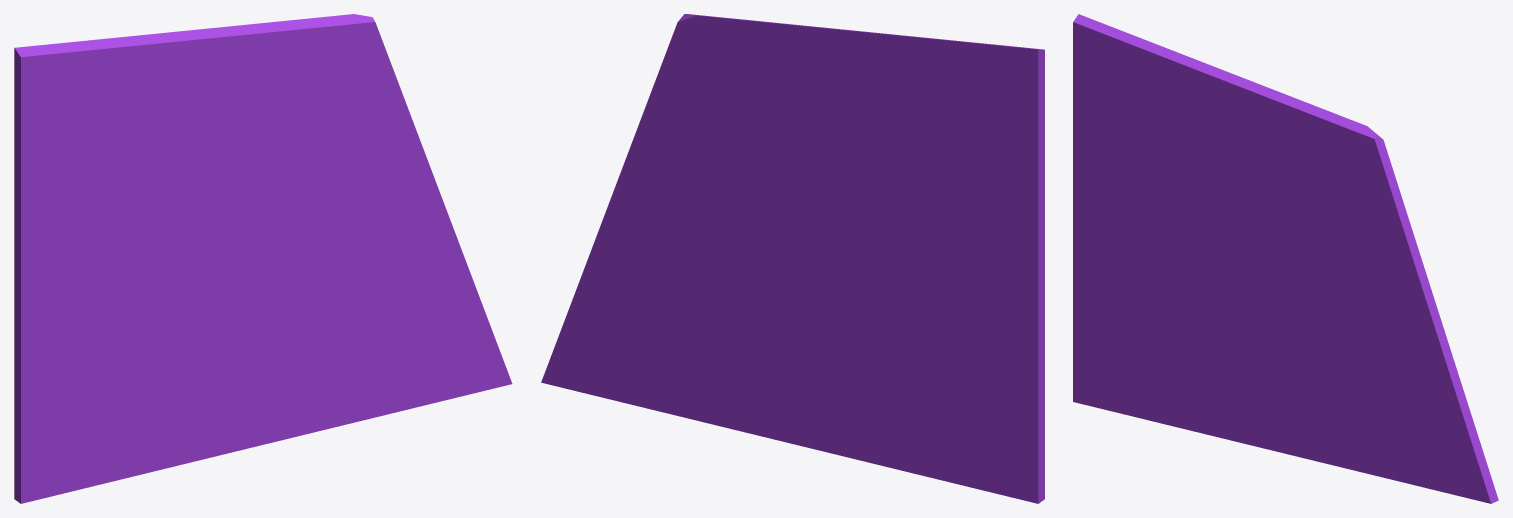
Rendered from Window_5_1_chunks.fbx.
3 views of the same model, side by side, from view 1: azimuth 30°, elevation 25°; view 2: azimuth 150°, elevation 25°; view 3: azimuth 330°, elevation 25° (orthographic). The views are drawn at different scales.
Parts seen in each view (by area): view 1: Window_5_1_0, Window_5_1_19, Window_5_1_5, Window_5_1_6, Window_5_1_10, Window_5_1_23, Window_5_1_15, Window_5_1_21, Window_5_1_22, Window_5_1_9, Window_5_1_16, Window_5_1_24 (+17 smaller); view 2: Window_5_1_0, Window_5_1_10, Window_5_1_15, Window_5_1_5, Window_5_1_19, Window_5_1_21, Window_5_1_6, Window_5_1_8, Window_5_1_22, Window_5_1_23, Window_5_1_16, Window_5_1_2 (+14 smaller); view 3: Window_5_1_0, Window_5_1_5, Window_5_1_10, Window_5_1_19, Window_5_1_6, Window_5_1_23, Window_5_1_21, Window_5_1_15, Window_5_1_22, Window_5_1_9, Window_5_1_24, Window_5_1_8 (+16 smaller).
Part boxes in pixels (bbox=[...]): Window_5_1_0: bbox=[14, 48, 223, 231]; Window_5_1_19: bbox=[93, 315, 237, 486]; Window_5_1_5: bbox=[268, 89, 437, 243]; Window_5_1_6: bbox=[259, 264, 351, 437]; Window_5_1_10: bbox=[251, 14, 400, 139]; Window_5_1_23: bbox=[404, 238, 512, 403]; Window_5_1_15: bbox=[14, 165, 87, 351]; Window_5_1_21: bbox=[122, 172, 259, 299]; Window_5_1_22: bbox=[350, 290, 429, 423]; Window_5_1_9: bbox=[227, 79, 331, 193]; Window_5_1_16: bbox=[14, 337, 61, 503]; Window_5_1_24: bbox=[351, 187, 454, 290]; Window_5_1_0: bbox=[838, 48, 1044, 229]; Window_5_1_10: bbox=[652, 14, 816, 152]; Window_5_1_15: bbox=[931, 167, 1044, 349]; Window_5_1_5: bbox=[615, 90, 785, 247]; Window_5_1_19: bbox=[827, 298, 973, 487]; Window_5_1_21: bbox=[803, 172, 938, 305]; Window_5_1_6: bbox=[699, 234, 775, 429]; Window_5_1_8: bbox=[809, 82, 982, 186]; Window_5_1_22: bbox=[621, 285, 700, 421]; Window_5_1_23: bbox=[541, 265, 642, 401]; Window_5_1_16: bbox=[985, 336, 1044, 503]; Window_5_1_2: bbox=[735, 296, 799, 445]; Window_5_1_0: bbox=[1073, 14, 1245, 214]; Window_5_1_5: bbox=[1284, 207, 1435, 321]; Window_5_1_10: bbox=[1269, 97, 1404, 221]; Window_5_1_19: bbox=[1135, 305, 1257, 441]; Window_5_1_6: bbox=[1275, 301, 1354, 469]; Window_5_1_23: bbox=[1399, 356, 1498, 503]; Window_5_1_21: bbox=[1159, 204, 1275, 291]; Window_5_1_15: bbox=[1073, 124, 1129, 286]; Window_5_1_22: bbox=[1353, 357, 1420, 486]; Window_5_1_9: bbox=[1249, 136, 1337, 237]; Window_5_1_24: bbox=[1354, 304, 1444, 379]; Window_5_1_8: bbox=[1136, 83, 1252, 206].
Size of the model in its own units: 1203 by 1050 by 27.2.
